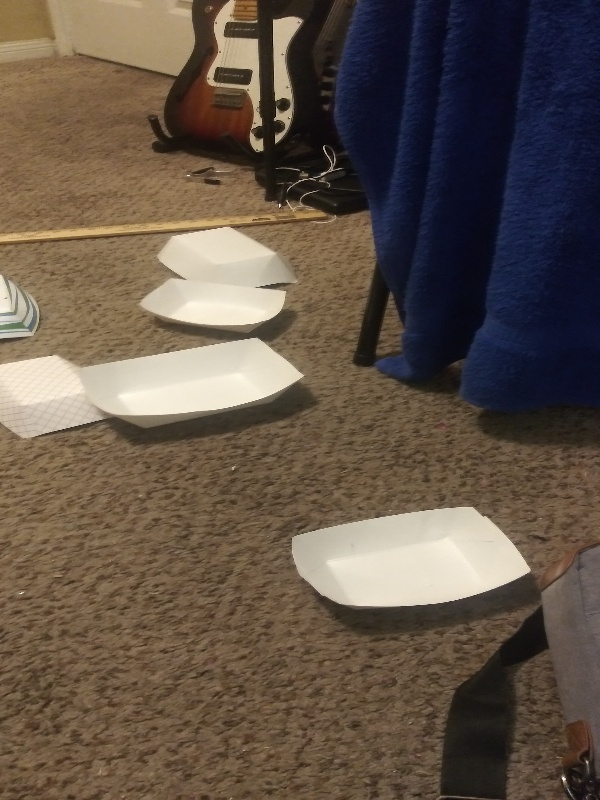plate: (283, 503, 537, 625), (74, 335, 311, 439), (1, 352, 123, 444), (136, 277, 291, 335), (156, 225, 295, 289), (2, 273, 43, 342)
